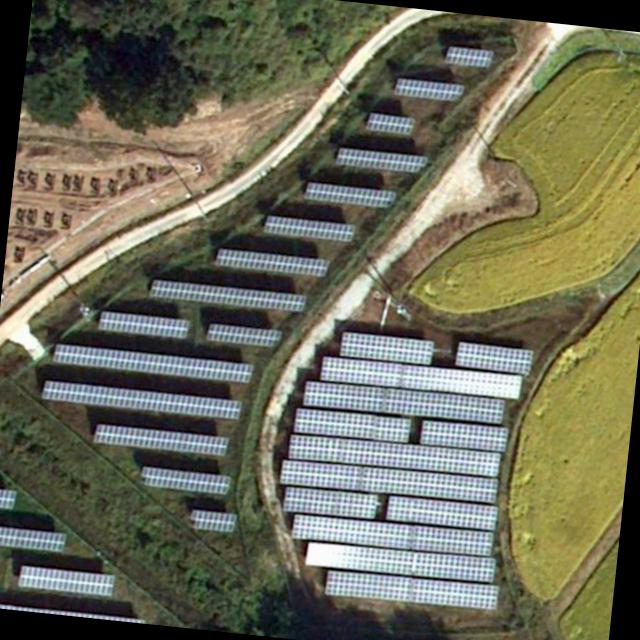solar: (277, 456, 500, 504), (285, 432, 503, 478), (302, 378, 506, 426), (316, 354, 524, 401), (290, 510, 494, 556), (39, 377, 242, 422), (49, 341, 255, 385), (303, 538, 497, 584), (323, 569, 499, 612), (145, 276, 310, 316), (90, 421, 228, 458), (291, 405, 412, 445), (384, 492, 500, 531), (211, 244, 332, 278), (280, 482, 380, 521), (136, 462, 232, 500), (336, 330, 436, 366), (14, 562, 116, 596), (416, 417, 510, 453), (299, 178, 398, 212), (258, 212, 358, 245), (95, 308, 192, 342), (332, 144, 431, 176), (453, 340, 534, 376), (202, 321, 285, 349), (392, 73, 467, 103), (0, 521, 67, 552), (184, 506, 242, 534), (442, 42, 496, 72), (362, 110, 417, 138), (0, 486, 19, 511)
